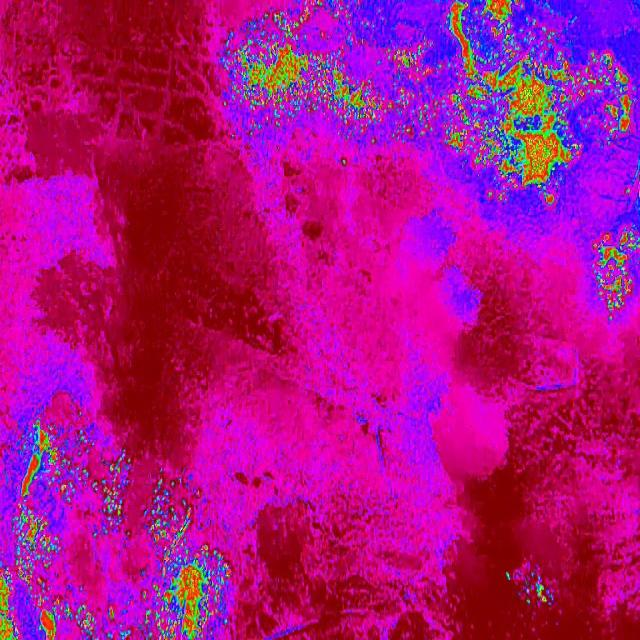fire: (219, 0, 640, 144), (0, 415, 131, 640), (138, 467, 231, 640), (444, 145, 585, 211), (590, 228, 640, 324), (504, 568, 557, 614)
